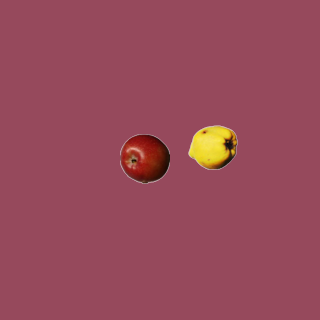Apple Braeburn: (119, 133, 169, 183)
Quince: (187, 122, 237, 172)
